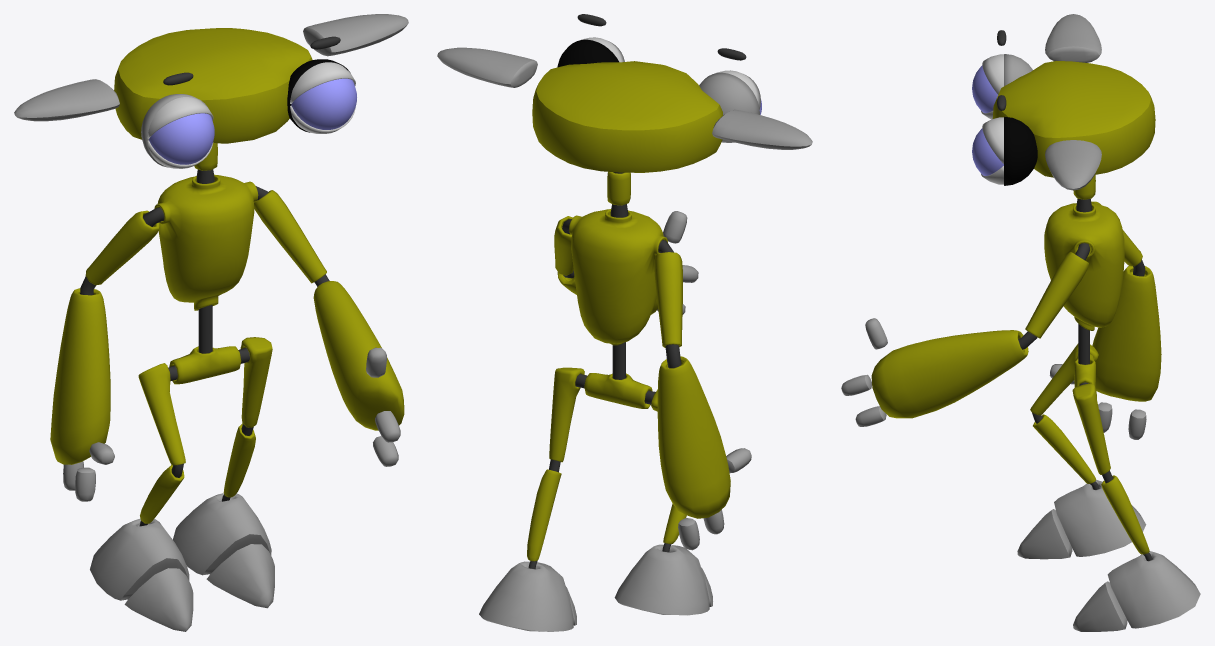
File: walk4.obj
The picture shows the model from 3 angles, left to right: view 1: azimuth 30°, elevation 25°; view 2: azimuth 150°, elevation 25°; view 3: azimuth 270°, elevation 25°; orthographic projection. The views are drawn at different scales.
Parts seen in each view (by area): view 1: Mesh polySurface50, Mesh polySurface41, Mesh polySurface37, Mesh polySurface18, Mesh polySurface48, Mesh polySurface10, Mesh polySurface26, Mesh polySurface24, Mesh polySurface8, Mesh polySurface47, Mesh polySurface51, Mesh polySurface22 (+19 smaller); view 2: Mesh polySurface41, Mesh polySurface50, Mesh polySurface37, Mesh polySurface48, Mesh polySurface26, Mesh polySurface10, Mesh polySurface47, Mesh polySurface38, Mesh polySurface44, Mesh polySurface12, Mesh polySurface21, Mesh polySurface29 (+5 smaller); view 3: Mesh polySurface18, Mesh polySurface50, Mesh polySurface41, Mesh polySurface37, Mesh polySurface10, Mesh polySurface26, Mesh polySurface48, Mesh polySurface44, Mesh polySurface51, Mesh polySurface4, Mesh polySurface12, Mesh polySurface24 (+12 smaller).
Boxes of the visible parts, left/top/right/bottom form: Mesh polySurface50: left=118, top=28, right=310, bottom=100; Mesh polySurface41: left=154, top=174, right=258, bottom=310; Mesh polySurface37: left=50, top=288, right=110, bottom=464; Mesh polySurface18: left=313, top=281, right=404, bottom=430; Mesh polySurface48: left=114, top=51, right=312, bottom=143; Mesh polySurface10: left=173, top=493, right=271, bottom=575; Mesh polySurface26: left=90, top=518, right=189, bottom=600; Mesh polySurface24: left=124, top=568, right=193, bottom=631; Mesh polySurface8: left=206, top=544, right=274, bottom=608; Mesh polySurface47: left=14, top=79, right=119, bottom=117; Mesh polySurface51: left=254, top=190, right=326, bottom=283; Mesh polySurface22: left=149, top=113, right=214, bottom=164; Mesh polySurface41: left=569, top=209, right=667, bottom=345; Mesh polySurface50: left=536, top=61, right=719, bottom=130; Mesh polySurface37: left=657, top=356, right=730, bottom=518; Mesh polySurface48: left=532, top=85, right=723, bottom=172; Mesh polySurface26: left=614, top=544, right=709, bottom=615; Mesh polySurface10: left=479, top=561, right=573, bottom=631; Mesh polySurface47: left=712, top=109, right=812, bottom=146; Mesh polySurface38: left=654, top=252, right=682, bottom=347; Mesh polySurface44: left=437, top=47, right=535, bottom=84; Mesh polySurface12: left=549, top=367, right=584, bottom=462; Mesh polySurface21: left=699, top=72, right=759, bottom=142; Mesh polySurface29: left=584, top=373, right=652, bottom=408; Mesh polySurface18: left=871, top=330, right=1028, bottom=418; Mesh polySurface50: left=997, top=61, right=1150, bottom=137; Mesh polySurface41: left=1044, top=203, right=1124, bottom=330; Mesh polySurface37: left=1092, top=266, right=1161, bottom=401; Mesh polySurface10: left=1107, top=551, right=1200, bottom=628; Mesh polySurface26: left=1054, top=480, right=1146, bottom=556; Mesh polySurface48: left=992, top=93, right=1155, bottom=177; Mesh polySurface44: left=1045, top=140, right=1101, bottom=188; Mesh polySurface51: left=1025, top=252, right=1088, bottom=338; Mesh polySurface4: left=1004, top=116, right=1037, bottom=185; Mesh polySurface12: left=1072, top=383, right=1110, bottom=474; Mesh polySurface24: left=1017, top=510, right=1070, bottom=559.
Bounding box in the file's own units: 10.05 × 14.54 × 8.79.
